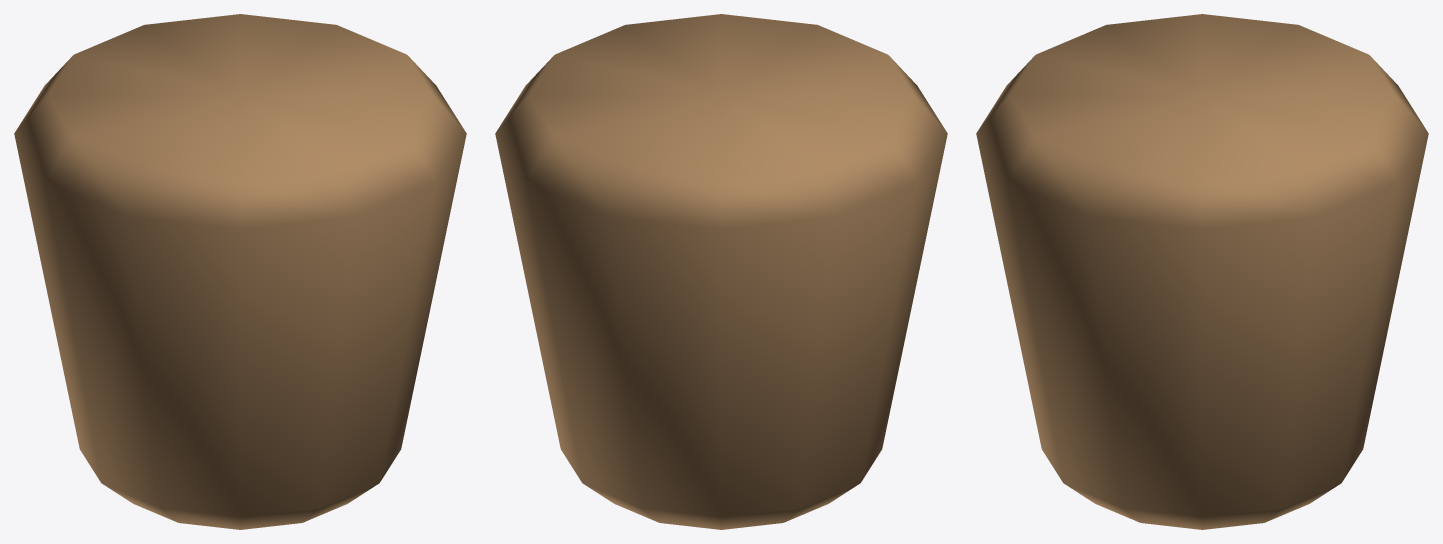
Rendered from Cork_Basic.fbx.
The picture shows the model from 3 angles, left to right: view 1: azimuth 30°, elevation 25°; view 2: azimuth 150°, elevation 25°; view 3: azimuth 270°, elevation 25°; orthographic projection.
Parts seen in each view (by area): view 1: cork_Basic; view 2: cork_Basic; view 3: cork_Basic.
Part boxes in pixels (x1,y1,x2,y2): cork_Basic: (14, 14, 466, 529); cork_Basic: (495, 14, 947, 529); cork_Basic: (976, 14, 1428, 529).
Bounding box in the file's own units: 1.96 × 1.83 × 1.96.
